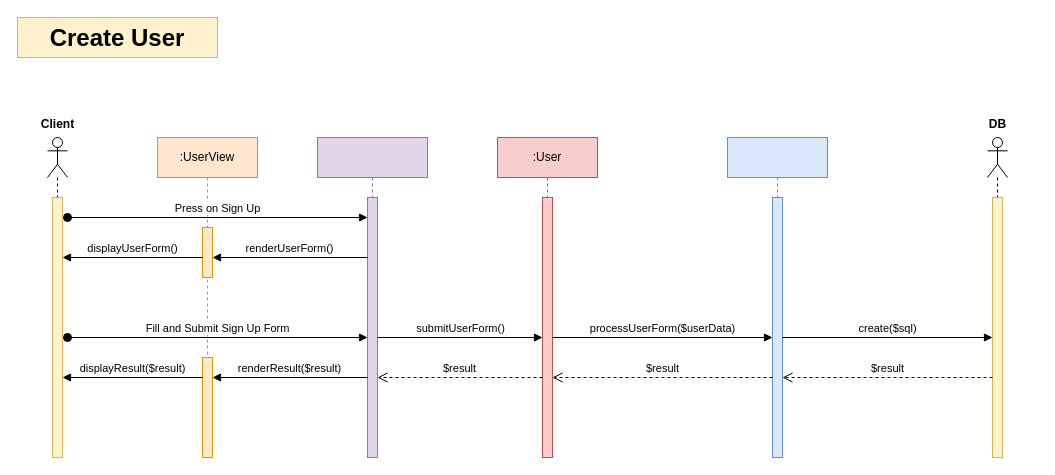
The diagram is 1055 pixels wide and 475 high, and some of its shapes have lost their labels. The box of each missing label's shape, as (x1, y1, x2, y2) in pixels:
:UserController: (316, 136, 428, 458)
:UserRepo: (726, 136, 828, 458)
